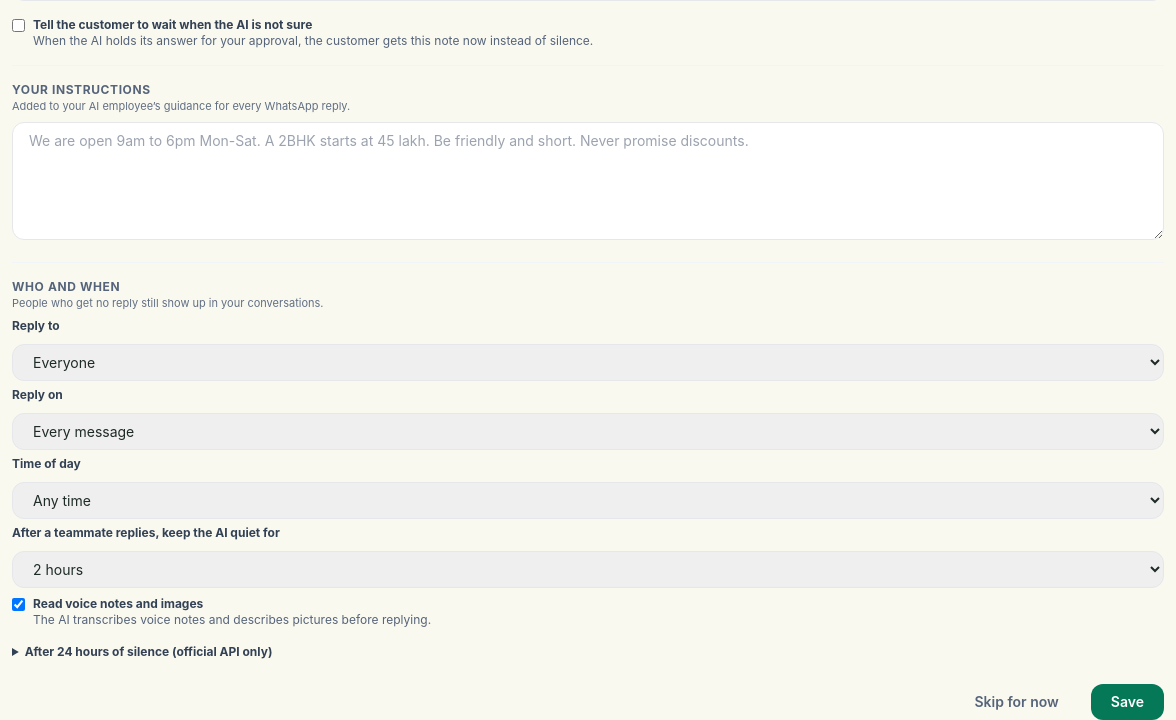
Test case: WhatsAppAutoReplyForm › does not say "0 numbers" while the allow list is still empty
(page scrolled)
Select "Only numbers on my allow list" in the dropdown labelled "Reply to" at (588, 362), box 12,344 -> 1164,380
(page scrolled)
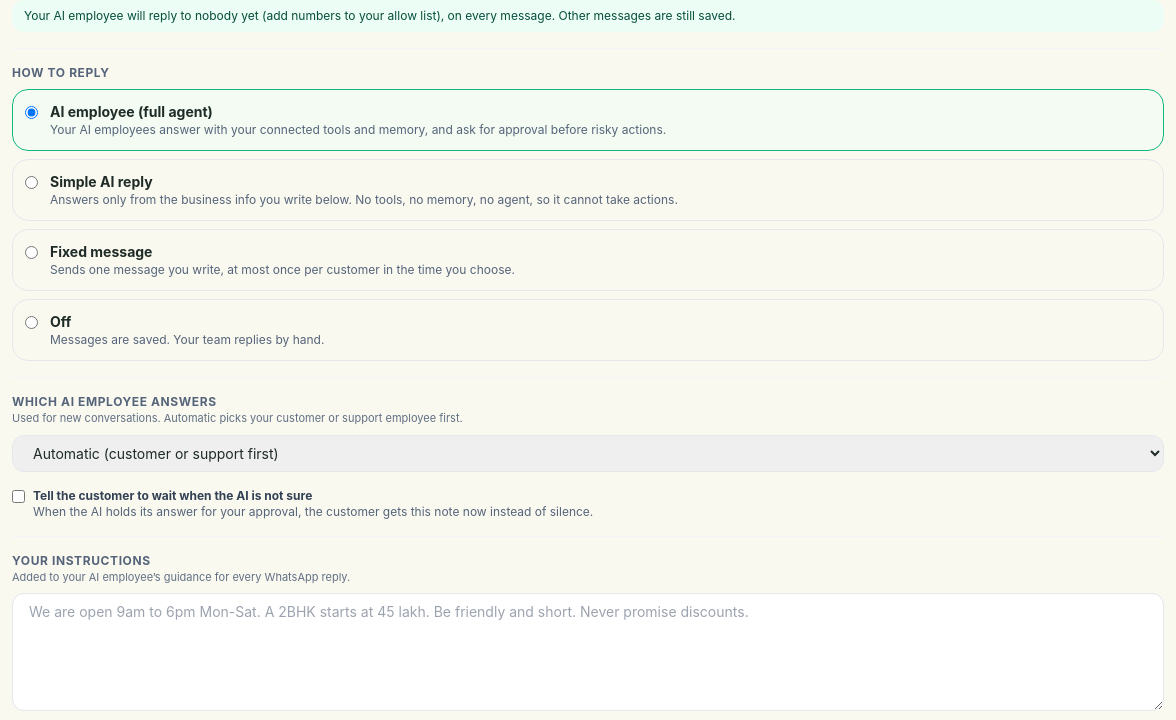
Now the message with test id "auto-reply-summary" shows "nobody yet", box 24,8 -> 736,23
